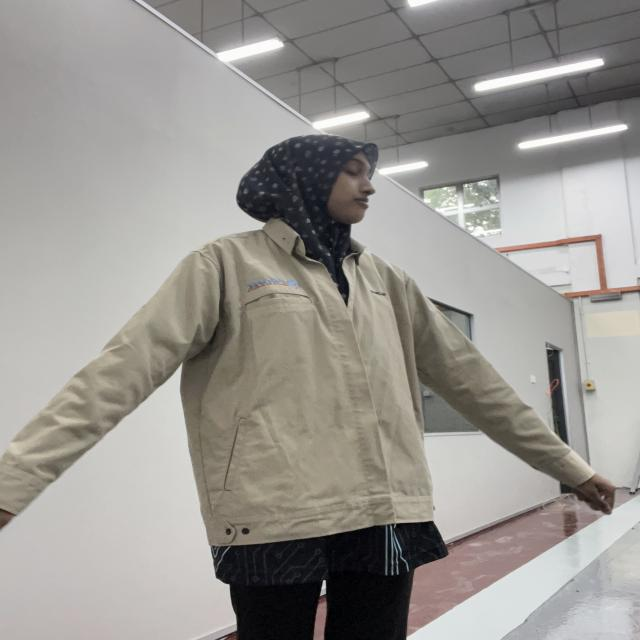person_with_labcoat: (0, 135, 615, 640)
